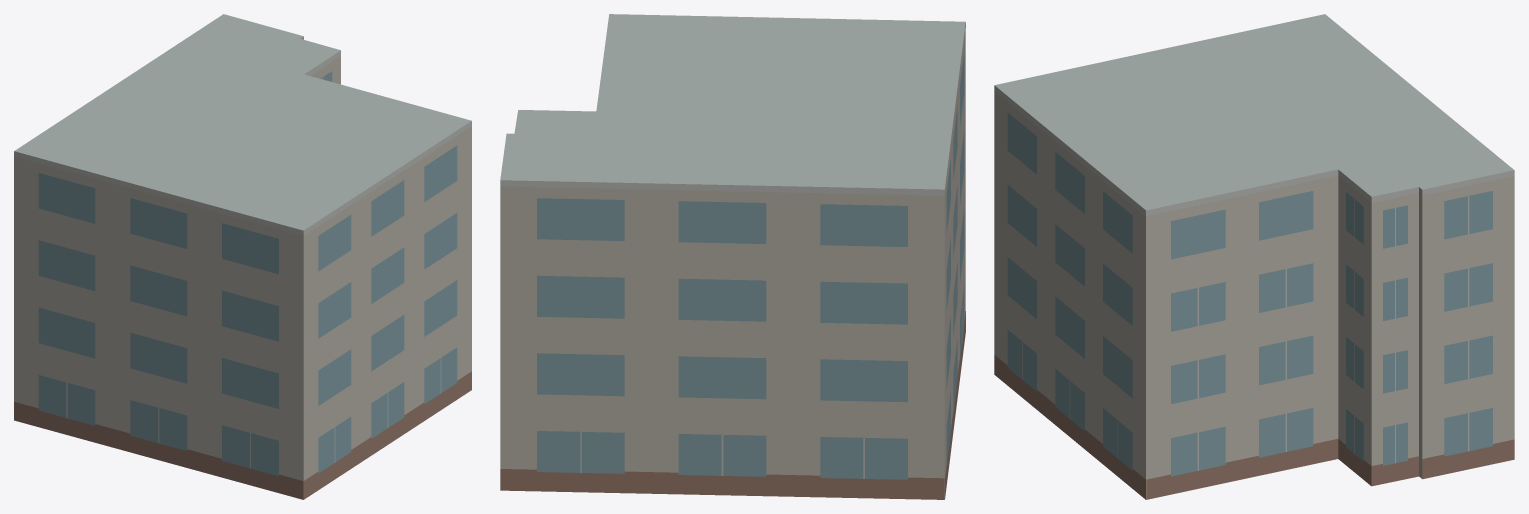
The model's file is survey-upis-33017097.glb.
3 renders of one model, left to right at view 1: azimuth 30°, elevation 25°; view 2: azimuth 150°, elevation 25°; view 3: azimuth 270°, elevation 25°, orthographic. The views are drawn at different scales.
Parts seen in each view (by area): view 1: survey-upis-33017097.tmp; view 2: survey-upis-33017097.tmp; view 3: survey-upis-33017097.tmp.
Part boxes in pixels (bbox=[...]): survey-upis-33017097.tmp: bbox=[14, 14, 471, 499]; survey-upis-33017097.tmp: bbox=[500, 14, 965, 499]; survey-upis-33017097.tmp: bbox=[994, 14, 1514, 499].
Bounding box in the file's own units: 17.77 × 12.2 × 19.88.
